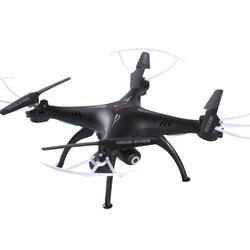drone: (1, 46, 250, 210)
